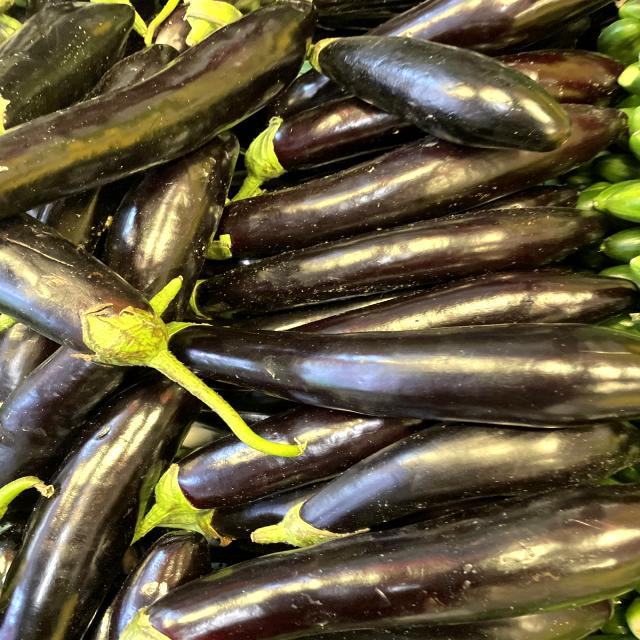eggplant: (113, 477, 640, 640), (148, 300, 640, 437), (298, 24, 578, 153)
